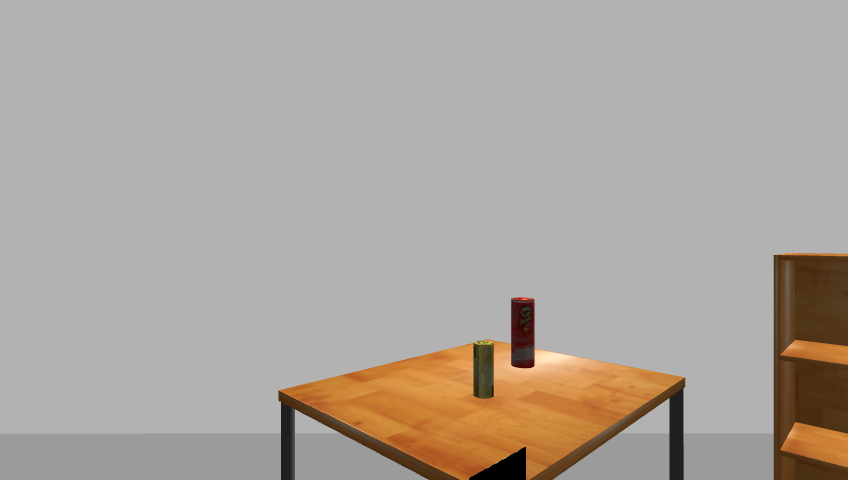aruco marker: (463, 447, 530, 480)
biscuits pack: (472, 340, 496, 399)
bookshelf: (768, 252, 848, 480)
dinner table: (270, 342, 694, 480)
pringles can: (507, 296, 537, 370)
